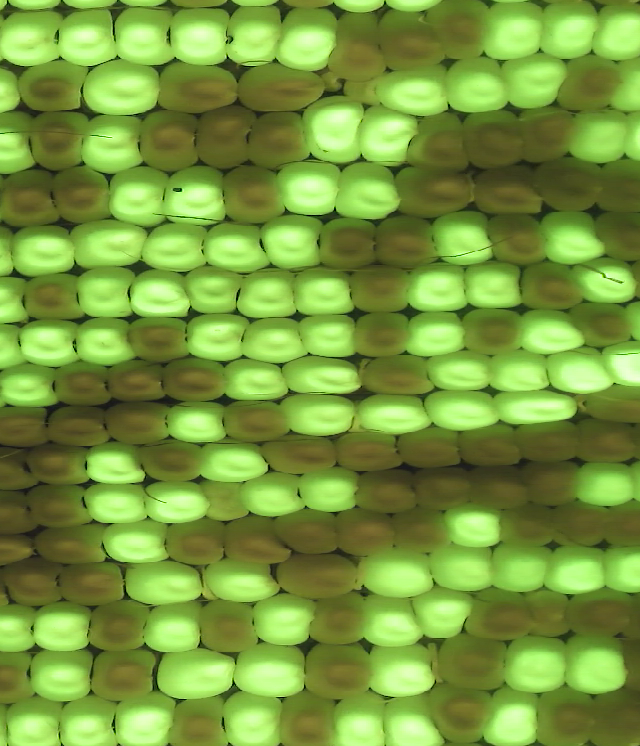fluorescent: (295, 89, 374, 169), (75, 55, 169, 119), (267, 5, 348, 79), (370, 60, 460, 125), (326, 156, 406, 229), (555, 630, 638, 699), (224, 639, 313, 703), (101, 159, 176, 233), (108, 1, 185, 72), (156, 160, 231, 232), (422, 205, 505, 270), (74, 109, 151, 179), (162, 3, 241, 71), (495, 632, 574, 700), (354, 544, 444, 603), (535, 204, 615, 270), (270, 151, 345, 221), (154, 644, 245, 701), (273, 349, 374, 400), (352, 100, 425, 170), (69, 258, 142, 328), (0, 220, 85, 280), (67, 215, 153, 274), (353, 587, 431, 652), (23, 644, 101, 709), (201, 552, 289, 609), (495, 51, 573, 115), (222, 3, 292, 73), (245, 589, 324, 651), (471, 682, 547, 746), (278, 388, 366, 443), (52, 3, 125, 69), (258, 212, 335, 274), (25, 597, 102, 659), (136, 597, 214, 658), (513, 302, 592, 362), (477, 1, 551, 65), (426, 540, 506, 599), (287, 260, 363, 322), (443, 51, 515, 116), (197, 219, 275, 279), (355, 390, 445, 442), (407, 584, 485, 644), (562, 103, 635, 167), (419, 384, 507, 437), (118, 555, 206, 608), (361, 639, 436, 701), (373, 690, 456, 746), (229, 262, 304, 323), (488, 384, 585, 431), (484, 535, 555, 599), (214, 687, 291, 746), (102, 690, 183, 746), (66, 314, 144, 371), (0, 5, 69, 69), (463, 258, 539, 316), (400, 258, 477, 315), (237, 314, 315, 370), (135, 218, 209, 277), (125, 263, 197, 323), (534, 1, 603, 63), (14, 316, 89, 373), (543, 342, 619, 398), (536, 540, 612, 596), (198, 436, 279, 488), (76, 436, 155, 489), (156, 395, 238, 446), (216, 354, 296, 406), (399, 307, 475, 361), (99, 518, 175, 572), (293, 461, 367, 516), (293, 309, 365, 365), (483, 346, 559, 399), (135, 479, 217, 528), (437, 499, 510, 554), (569, 252, 640, 308), (240, 470, 315, 523), (567, 456, 640, 510), (77, 479, 155, 529), (179, 259, 247, 316), (423, 345, 498, 396), (184, 309, 255, 362), (55, 691, 120, 746), (326, 692, 392, 746), (0, 694, 67, 746), (0, 360, 65, 413), (589, 1, 640, 66), (0, 109, 43, 179), (0, 600, 43, 659), (596, 543, 640, 597), (599, 336, 640, 391), (0, 271, 35, 328), (607, 53, 640, 113), (0, 319, 35, 375)
nonfluorescent: (386, 159, 485, 228), (19, 103, 99, 177), (318, 8, 393, 86), (399, 109, 481, 179), (234, 58, 334, 115), (421, 677, 503, 746), (215, 160, 298, 228), (149, 58, 243, 118), (455, 583, 544, 646), (240, 103, 315, 177), (189, 100, 262, 175), (365, 211, 448, 276), (273, 549, 369, 605), (371, 6, 451, 72), (432, 631, 512, 697), (299, 638, 379, 704), (455, 105, 532, 173), (10, 58, 95, 119), (480, 205, 556, 273), (354, 349, 443, 407), (550, 49, 626, 115), (218, 511, 303, 570), (188, 594, 266, 658), (47, 159, 120, 227), (508, 101, 582, 168), (267, 505, 348, 565), (529, 155, 611, 214), (136, 106, 205, 176), (388, 420, 475, 475), (471, 162, 553, 219), (86, 644, 161, 706), (530, 684, 605, 746), (559, 585, 640, 642), (423, 1, 496, 64), (515, 258, 594, 316), (346, 463, 425, 521), (26, 518, 114, 570), (45, 356, 125, 413), (255, 429, 346, 479), (0, 163, 66, 231), (314, 213, 385, 276), (303, 590, 377, 650), (345, 259, 420, 318), (21, 478, 100, 534), (119, 311, 199, 366), (385, 502, 462, 559), (84, 595, 157, 655), (270, 689, 346, 746), (330, 503, 403, 562), (134, 435, 215, 488), (509, 417, 590, 470), (53, 556, 134, 609), (19, 269, 93, 327), (0, 551, 69, 613), (155, 350, 232, 405), (452, 418, 529, 473), (404, 462, 483, 515), (220, 393, 296, 448), (460, 303, 533, 360), (95, 396, 174, 448), (161, 692, 236, 746), (569, 413, 640, 470), (41, 400, 117, 453), (23, 437, 95, 492), (161, 515, 233, 570), (331, 427, 408, 478), (461, 462, 535, 515), (516, 455, 586, 509), (493, 499, 561, 554), (582, 683, 640, 746), (519, 583, 578, 644), (551, 497, 615, 553), (101, 355, 171, 406), (349, 309, 416, 362), (569, 299, 638, 349), (0, 398, 60, 454), (589, 207, 640, 269), (591, 155, 640, 218), (579, 383, 640, 429), (0, 644, 42, 707), (0, 485, 45, 541), (0, 443, 45, 496), (597, 497, 640, 552), (0, 526, 44, 573)
